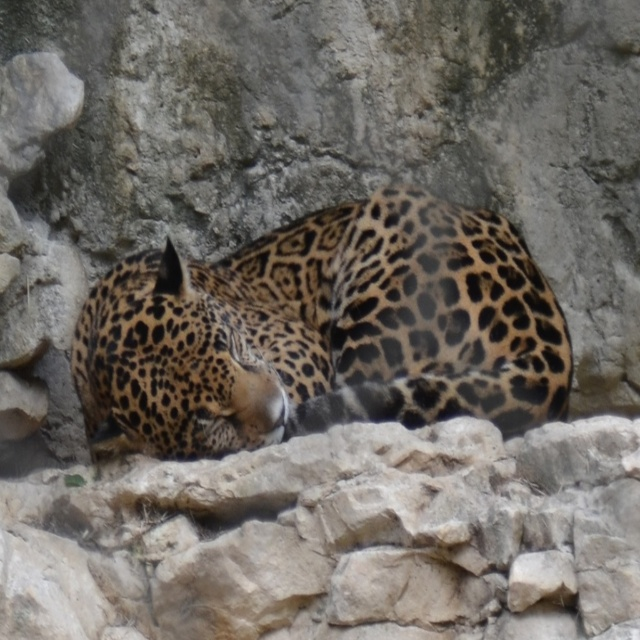Jaguar: (67, 181, 574, 466)
